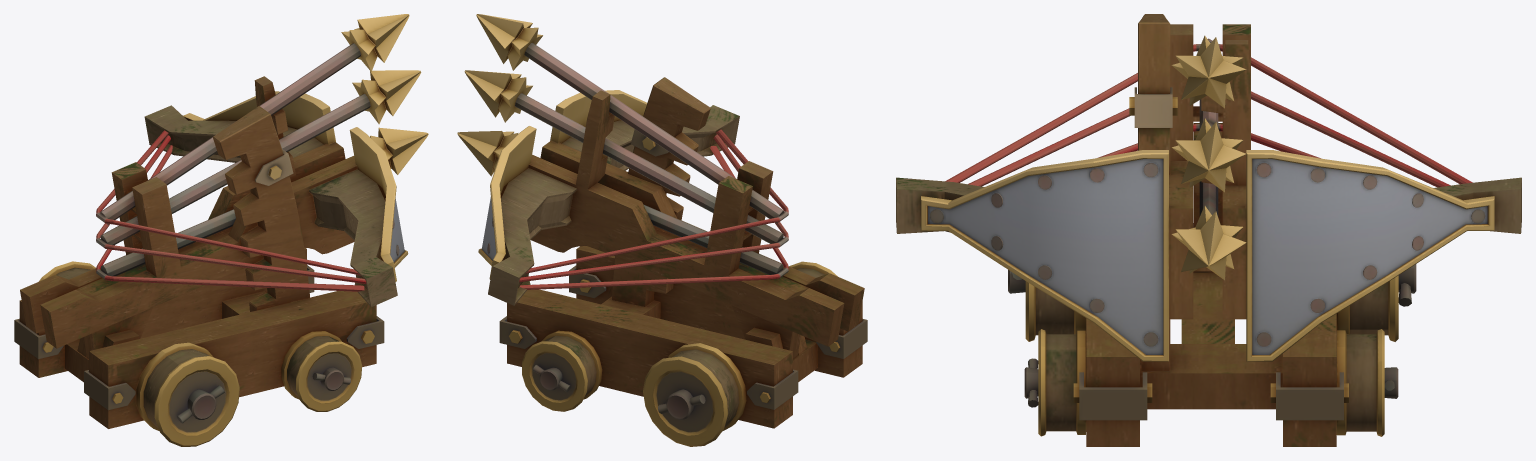
File: balista.fbx
3 renders of one model, left to right at view 1: azimuth 30°, elevation 25°; view 2: azimuth 150°, elevation 25°; view 3: azimuth 270°, elevation 25°, orthographic. The views are drawn at different scales.
Visible parts, largest first — view 1: balista, arrow_1, arrow_2, arrow_3; view 2: balista, arrow_1, arrow_2, arrow_3; view 3: balista, arrow_3, arrow_2, arrow_1.
Boxes of the visible parts, <box> form: balista: <box>14,76,408,446</box>; arrow_1: <box>100,14,409,224</box>; arrow_2: <box>100,70,421,245</box>; arrow_3: <box>101,127,428,276</box>; balista: <box>478,77,867,446</box>; arrow_1: <box>476,14,784,223</box>; arrow_2: <box>464,70,783,243</box>; arrow_3: <box>457,131,783,274</box>; balista: <box>896,14,1521,446</box>; arrow_3: <box>1171,181,1246,280</box>; arrow_2: <box>1172,99,1245,192</box>; arrow_1: <box>1171,35,1246,108</box>.
Size of the model in its own units: 850 by 670 by 830.
1 material, 1 textured.
